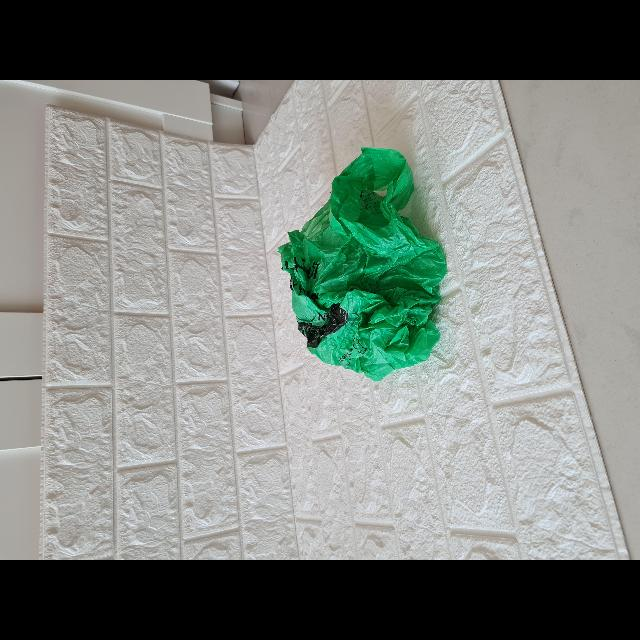sacola plástica: (276, 144, 449, 383)
